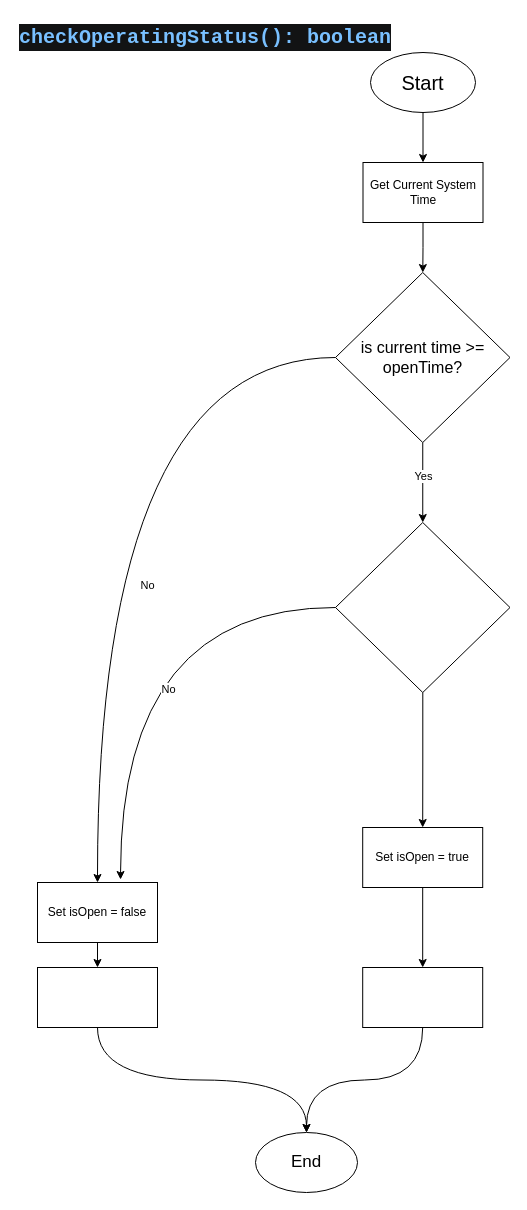
Image size: 527x1210. Some labels were removed from this diagram. Here are the shapes that lost their labels. From the top down, the centre of each, then its label:
the point at 422,607: is current time <= closeTime?
the point at 97,997: Return false
the point at 422,997: Return true
